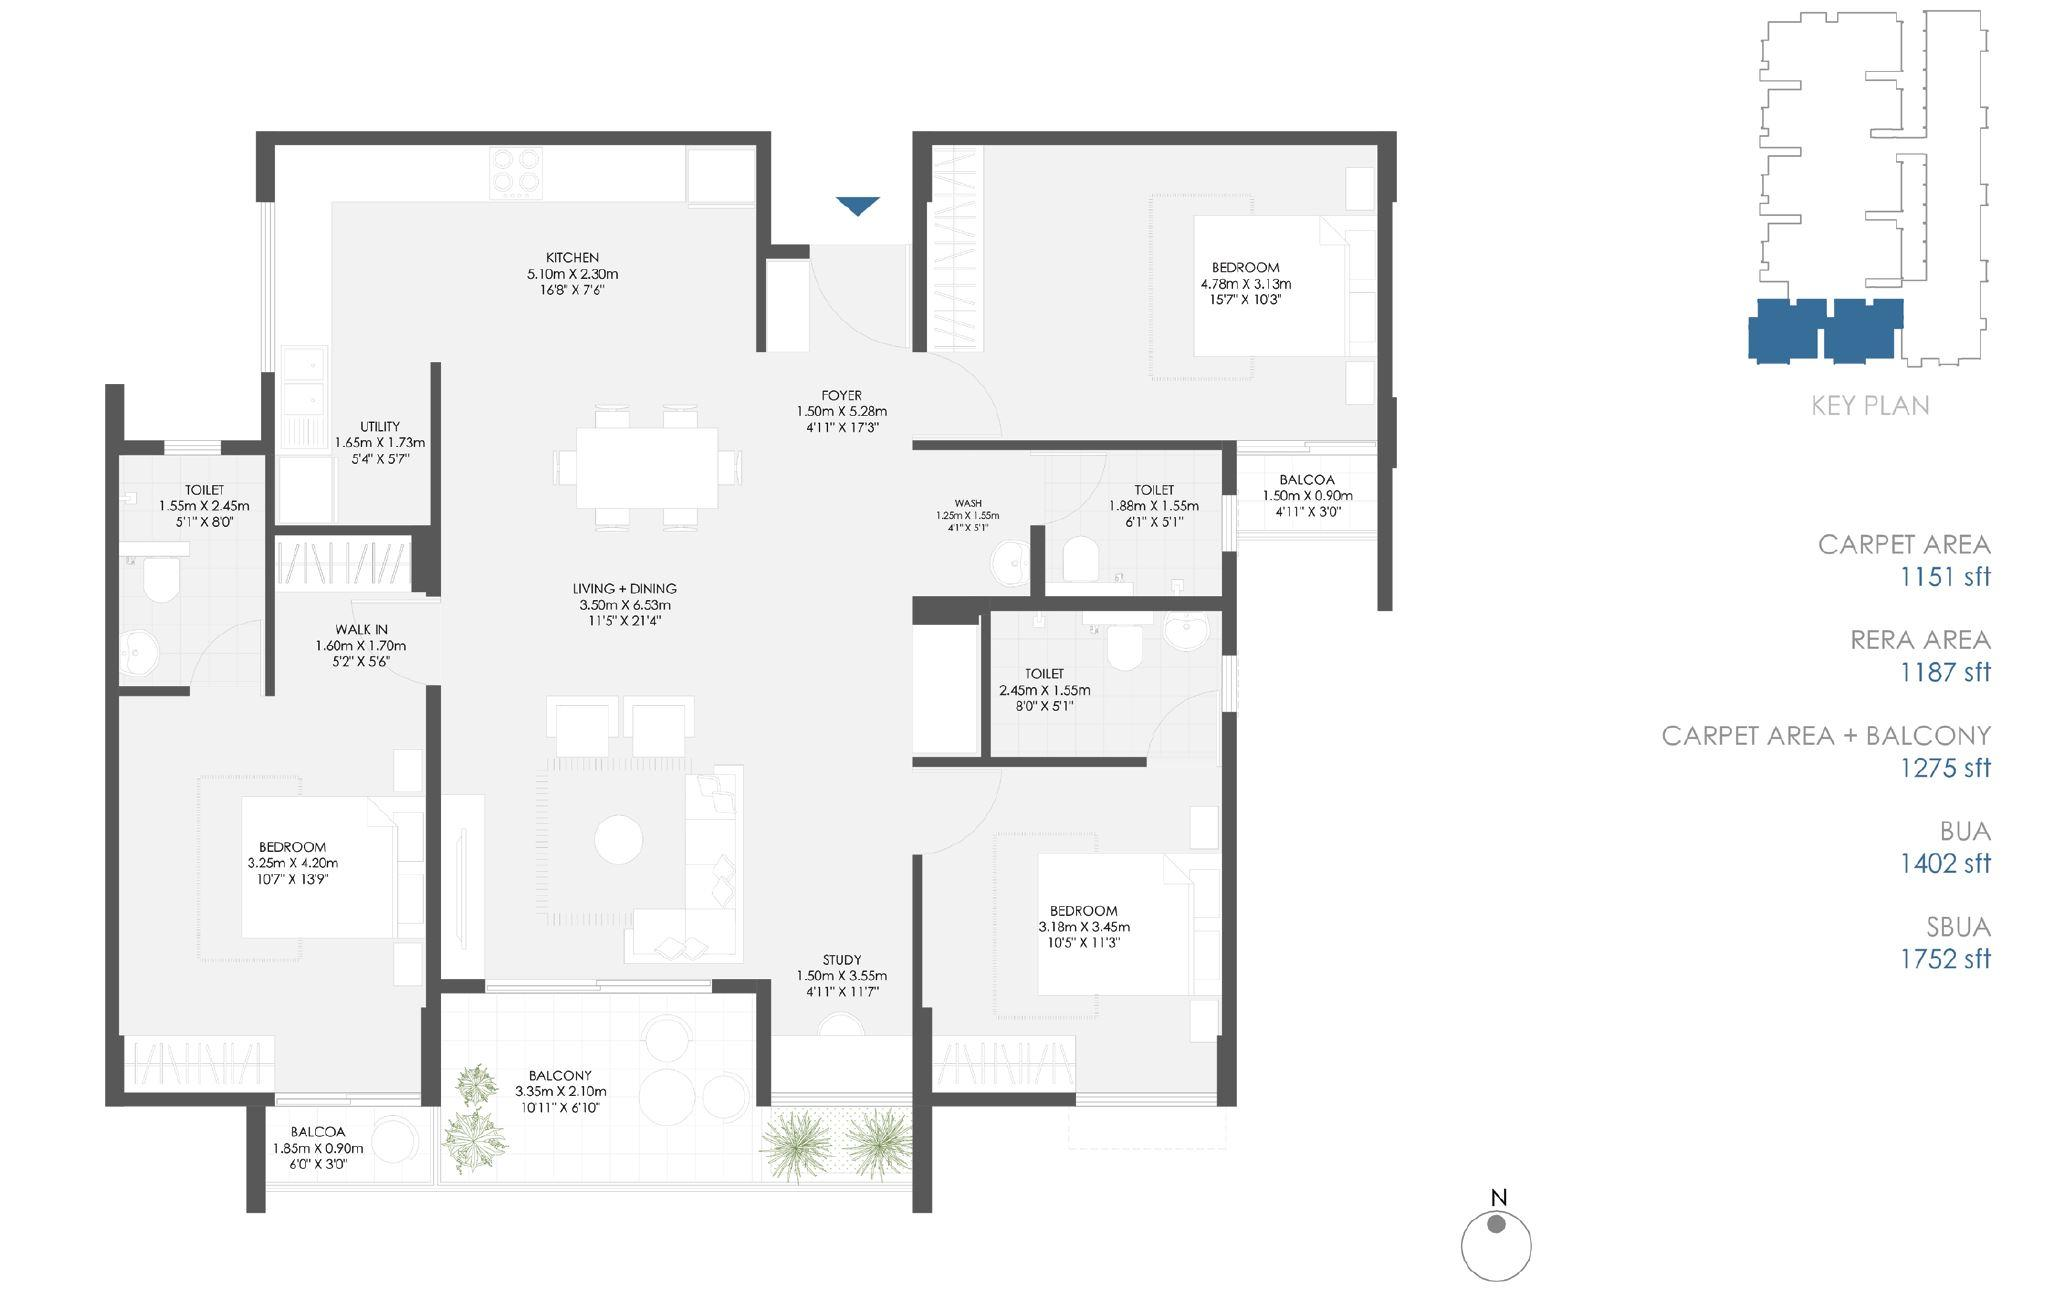Balcony: (436, 992, 759, 1169), (266, 1103, 425, 1182), (762, 1103, 913, 1181)
Bed: (1192, 212, 1378, 368), (1032, 852, 1226, 999), (240, 803, 426, 942)
Bedroom: (925, 146, 1381, 437), (119, 691, 426, 1091), (923, 760, 1220, 1097)
Dining Room: (426, 340, 782, 590)
Dining table: (539, 395, 753, 535)
Foyer: (779, 258, 909, 864)
Kitchen: (276, 149, 756, 355)
Living Room: (447, 579, 759, 983)
Sofa: (681, 772, 738, 962), (623, 912, 742, 962), (543, 699, 616, 762), (622, 696, 696, 754)
Wardrobe: (929, 149, 983, 342), (122, 1037, 281, 1091), (272, 538, 408, 595), (940, 1038, 1072, 1090)
door: (904, 756, 1009, 855), (352, 595, 450, 698), (811, 258, 911, 353), (171, 610, 269, 705), (1027, 443, 1116, 532), (1142, 682, 1231, 768), (916, 350, 1001, 437), (478, 974, 718, 1004), (270, 1083, 428, 1124)
fridge: (689, 151, 753, 208)
kitchen-slab: (276, 150, 686, 203), (272, 144, 334, 358)
sink: (287, 385, 328, 450), (1158, 612, 1216, 652), (990, 532, 1030, 590)
stove: (479, 150, 549, 208)
study: (762, 870, 914, 1091)
toilet: (122, 450, 266, 688), (990, 612, 1225, 757), (1035, 450, 1228, 595)
tv: (450, 820, 477, 964)
utility: (278, 359, 431, 524), (1237, 448, 1376, 536)
walkin: (264, 536, 426, 682)
wash: (910, 440, 1038, 598)
washing-machine: (278, 454, 335, 526)
